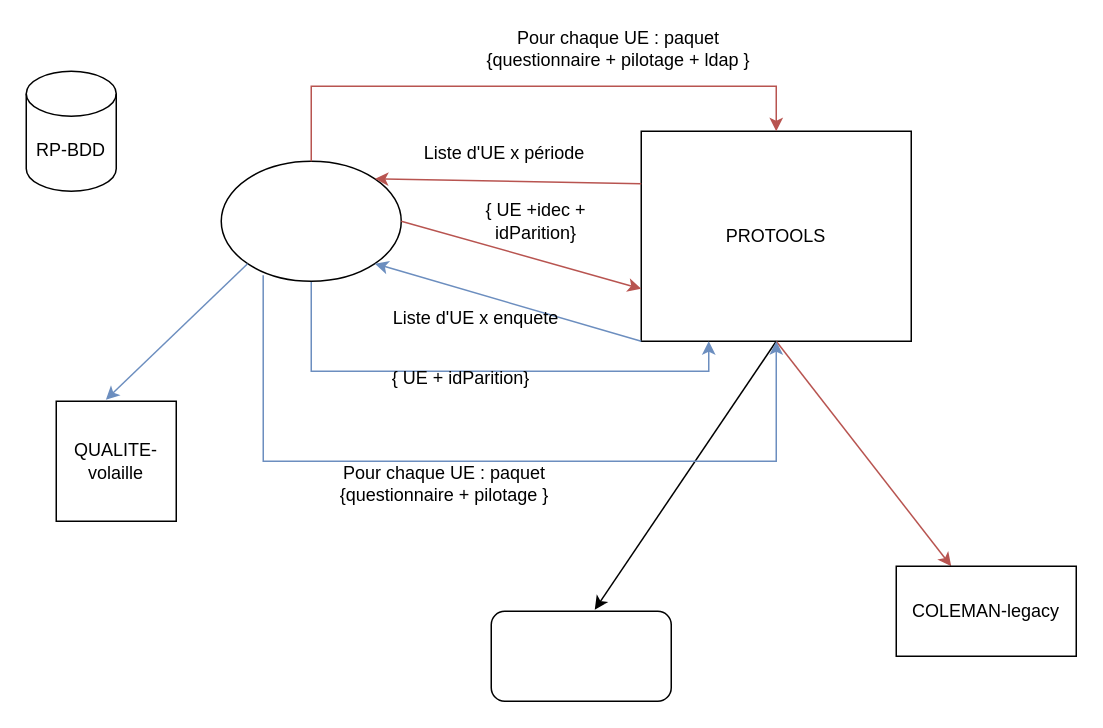
Image size: 1103x728. Some labels were removed from this diagram. The shapes that lost their labels are listed below. From the top down, each one's centre as x and y in pixels, then its label:
the point at 310,220: ERA
the point at 580,655: COCORICO-pilotage
